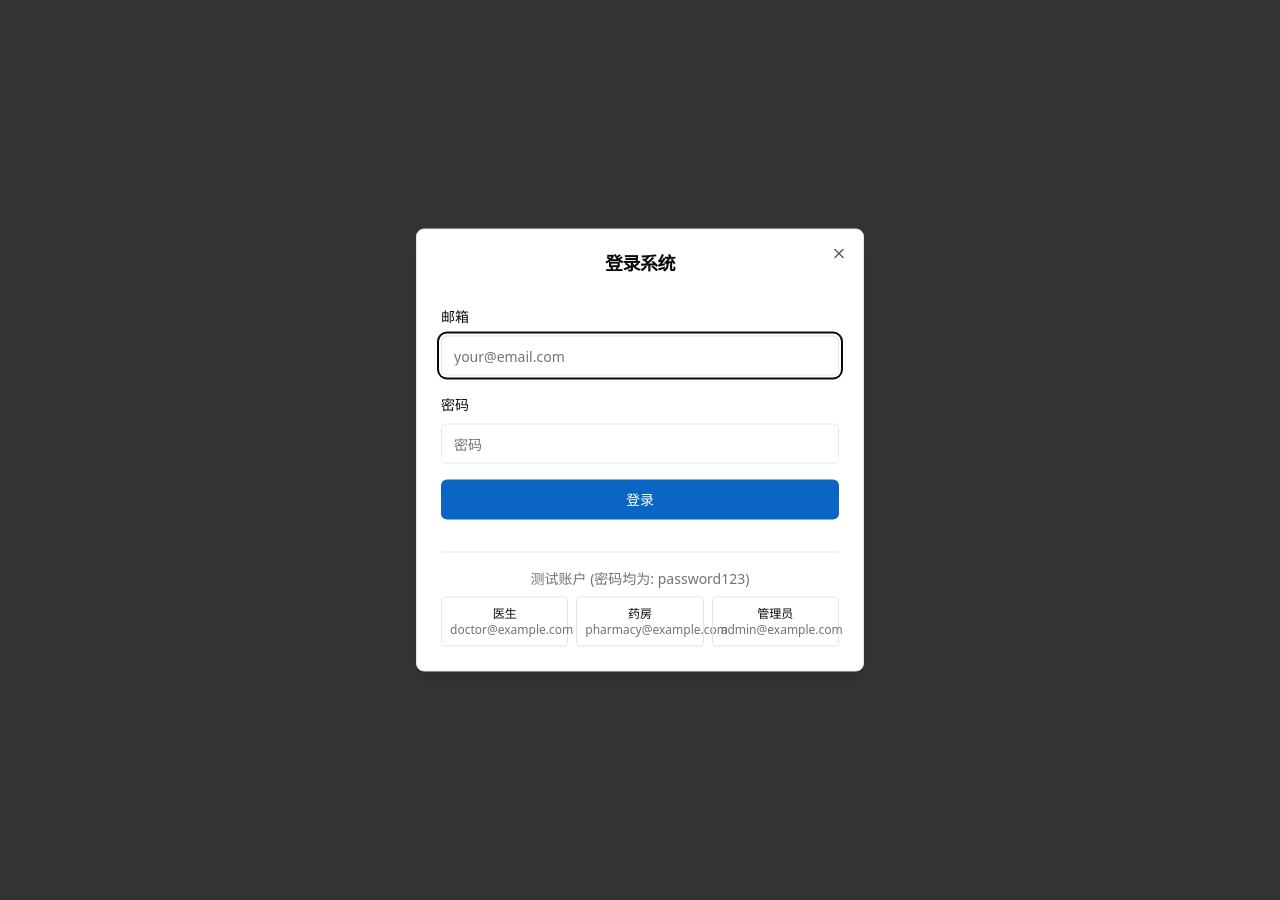
Test: LoginModal组件 › 登录失败处理
Type "test@example.com" into the field labelled "邮箱" at (640, 356), box [441,336,839,376]
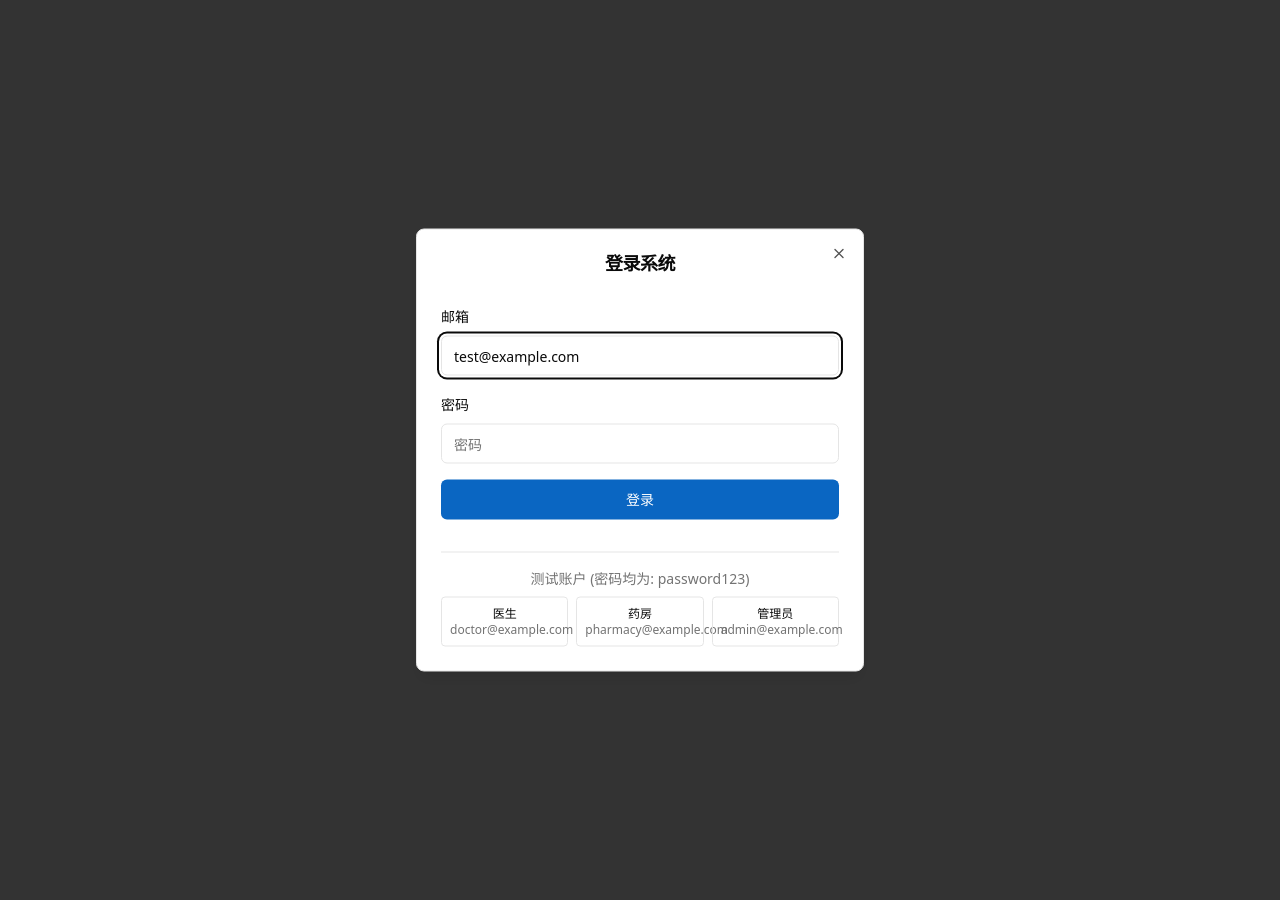
Type "password123" into the password field labelled "密码" at (640, 444), box [441,424,839,464]
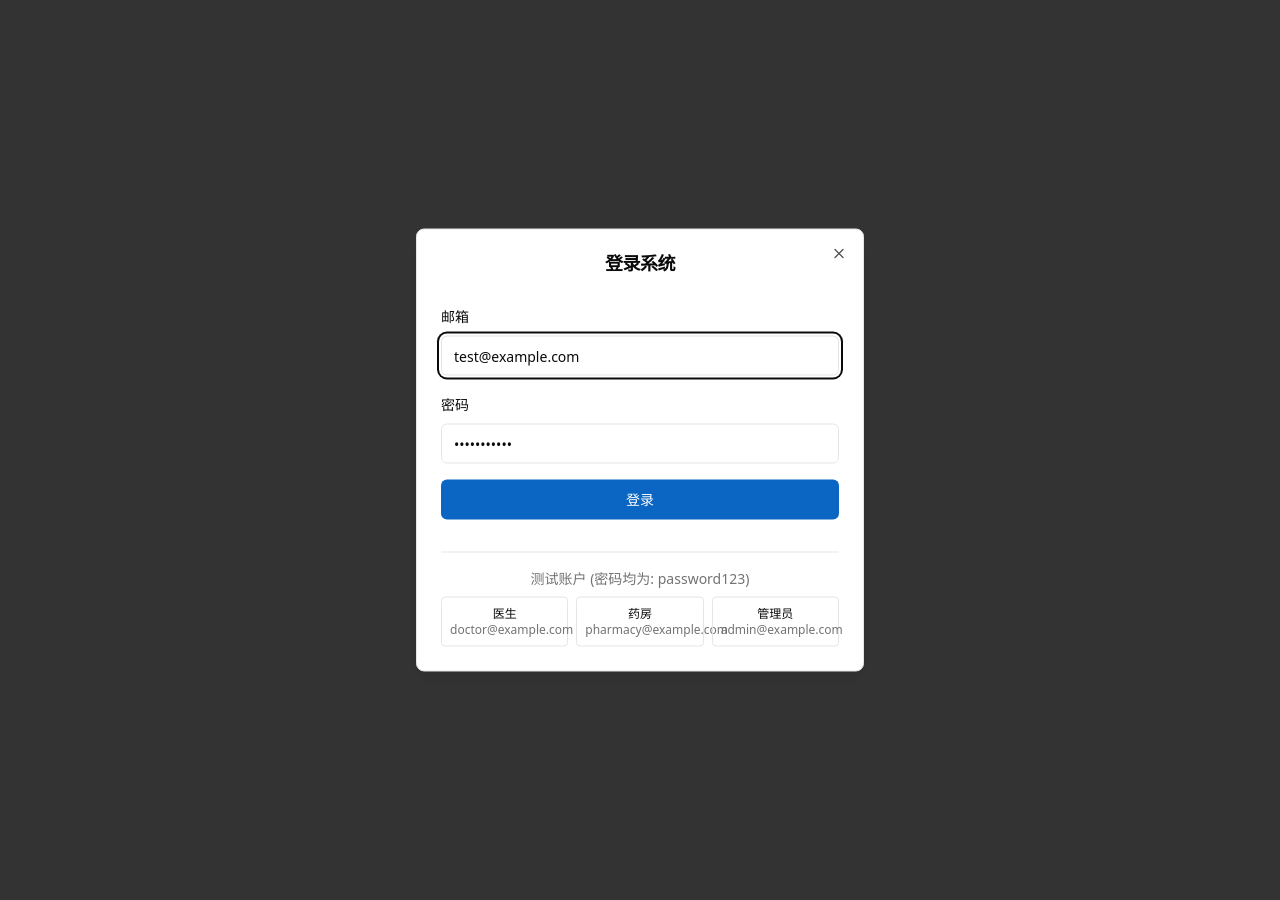
Click the button "登录" at (640, 500), box [441,480,839,520]
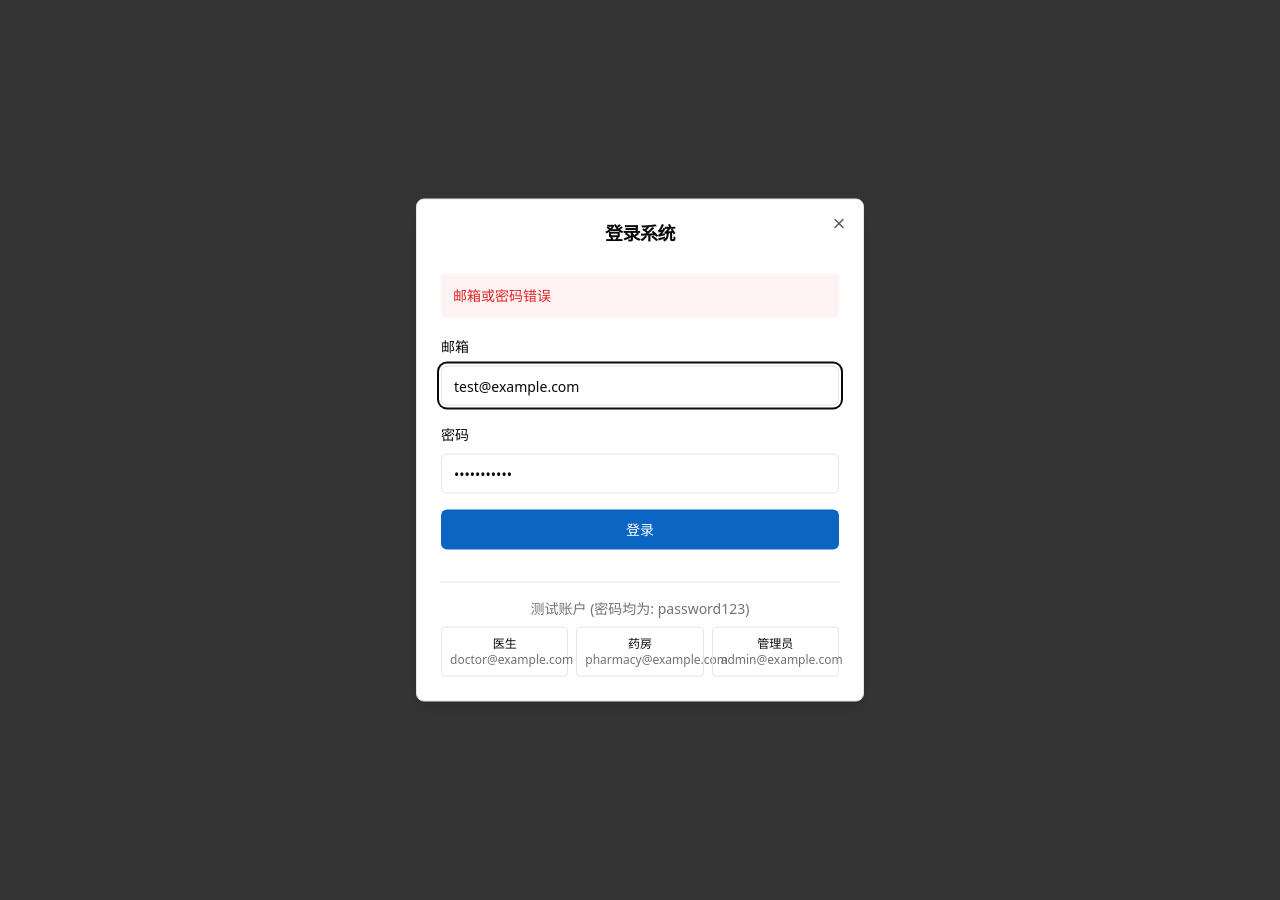
Expected: the text "邮箱或密码错误" is shown, [441,274,839,318]
